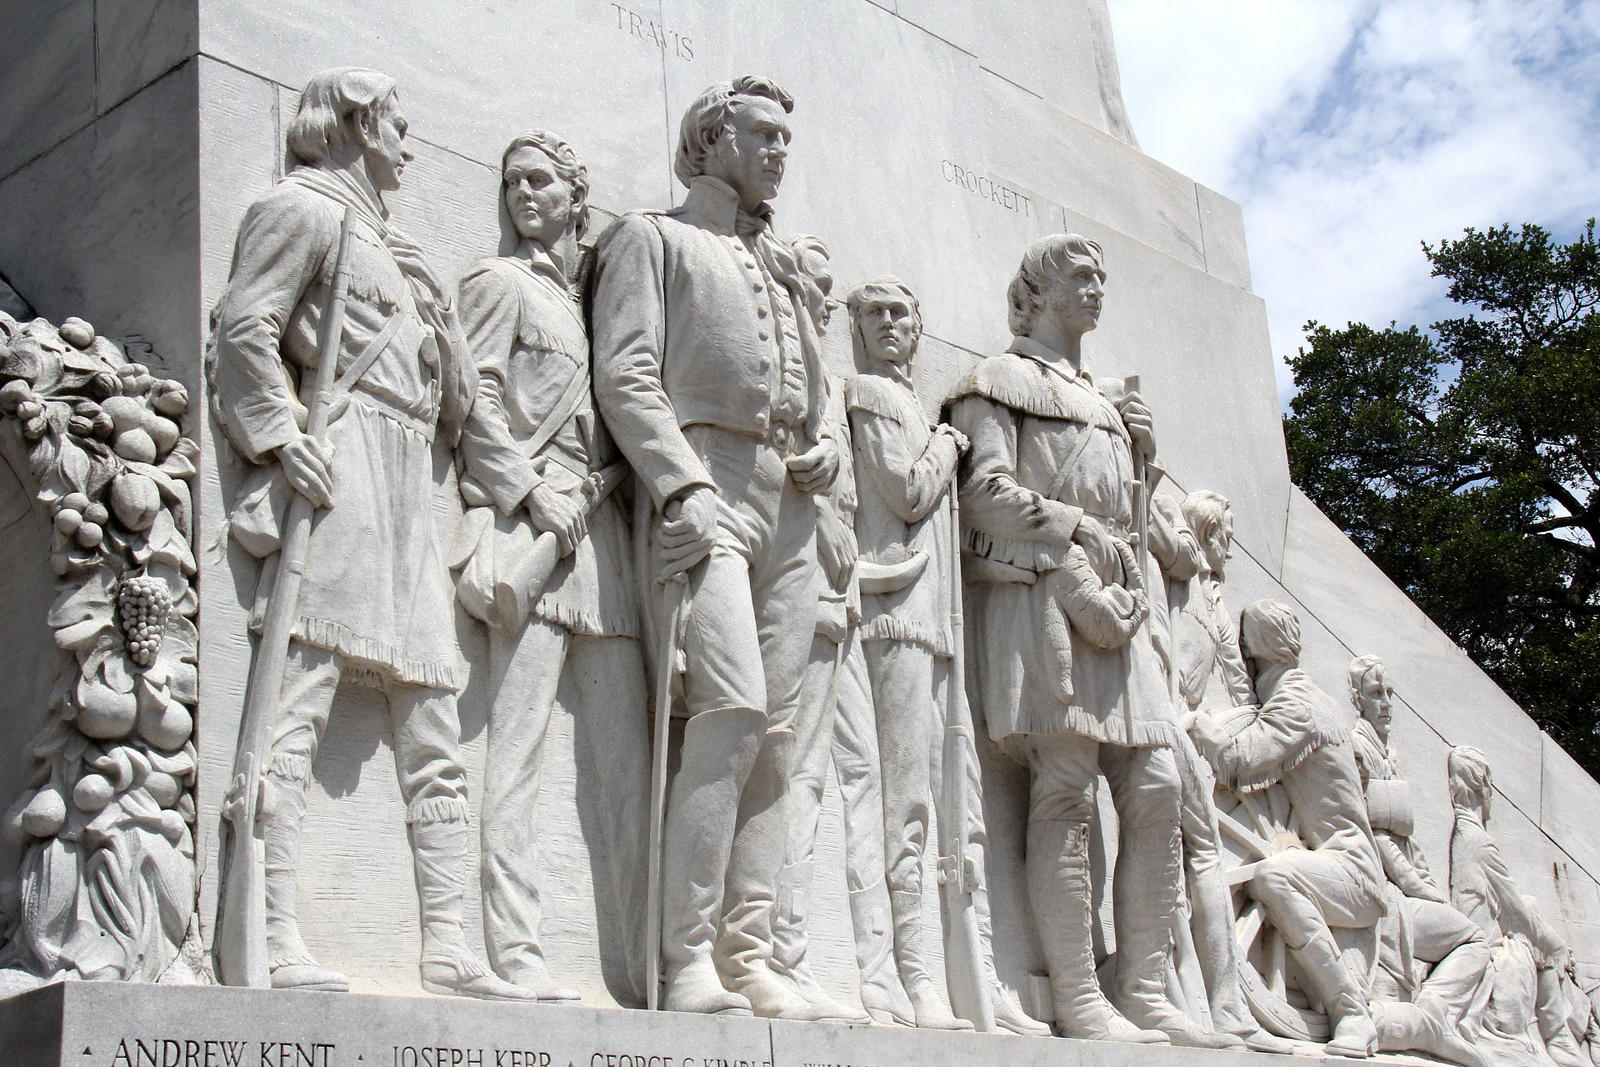person-like: (197, 62, 525, 1007), (579, 70, 853, 1021), (937, 225, 1242, 1052), (443, 125, 681, 1004), (843, 267, 1004, 1030), (781, 224, 907, 1023), (1187, 593, 1383, 1064), (1180, 481, 1292, 1054), (1340, 646, 1495, 1059), (1437, 739, 1584, 1061)
